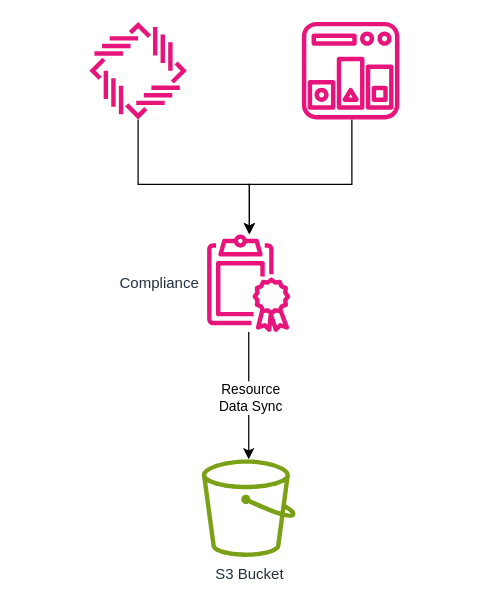
Image size: 488x604. Some labels were removed from this diagram. Each missing label, with the centre of its shape:
Patch Manager: point 137,70
State Manager: point 350,70
